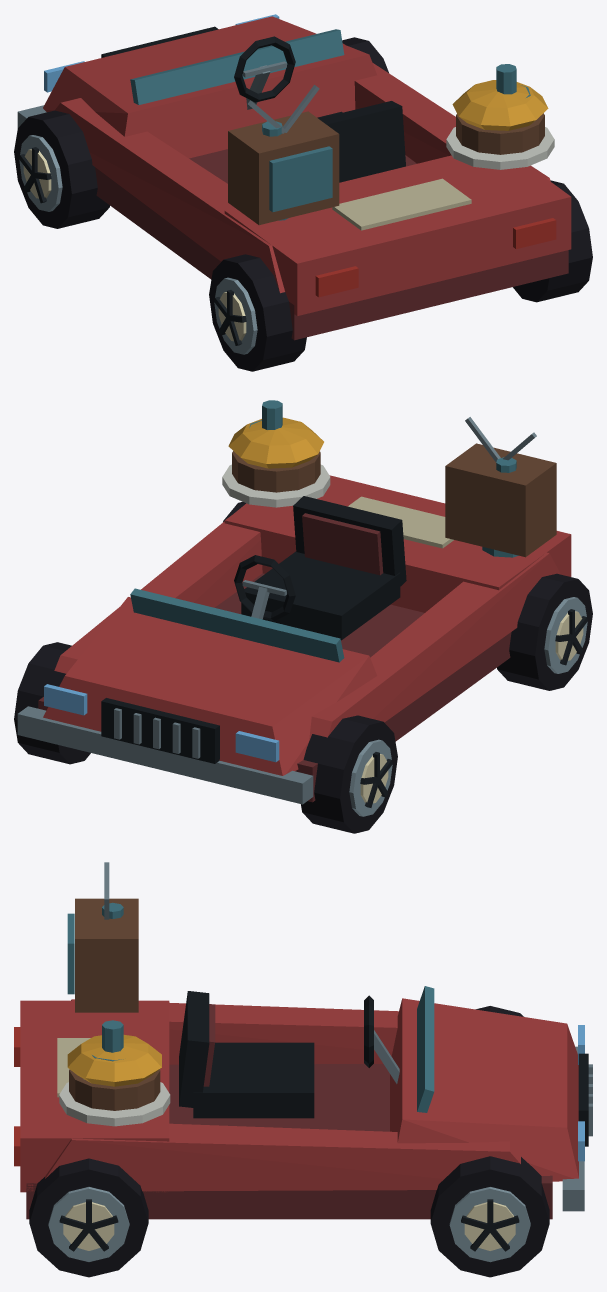
File: kart.glb
3 renders of one model, top to bottom at view 1: azimuth 30°, elevation 25°; view 2: azimuth 150°, elevation 25°; view 3: azimuth 270°, elevation 25°, orthographic. The views are drawn at different scales.
Visible parts, largest first — view 1: identity-sedan-sedan-road-car-body, identity-sedan-motif-television, wheel-front-left, wheel-rear-left, identity-sedan-motif-food, identity-sedan-driver-cockpit, wheel-rear-right, identity-sedan-motif-bottles, wheel-front-right; view 2: identity-sedan-sedan-road-car-body, identity-sedan-driver-cockpit, identity-sedan-motif-television, wheel-front-left, wheel-rear-left, identity-sedan-motif-food, wheel-front-right, identity-sedan-motif-bottles; view 3: identity-sedan-sedan-road-car-body, identity-sedan-driver-cockpit, wheel-front-right, wheel-rear-right, identity-sedan-motif-television, identity-sedan-motif-food, identity-sedan-motif-bottles.
Boxes of the visible parts, left/top/right/bottom form: identity-sedan-sedan-road-car-body: left=17, top=14, right=571, bottom=340; identity-sedan-motif-television: left=228, top=85, right=339, bottom=225; wheel-front-left: left=14, top=110, right=109, bottom=228; wheel-rear-left: left=209, top=254, right=306, bottom=371; identity-sedan-motif-food: left=446, top=80, right=554, bottom=169; identity-sedan-driver-cockpit: left=234, top=36, right=405, bottom=182; wheel-rear-right: left=513, top=180, right=592, bottom=302; identity-sedan-motif-bottles: left=262, top=64, right=530, bottom=220; wheel-front-right: left=342, top=37, right=388, bottom=72; identity-sedan-sedan-road-car-body: left=17, top=475, right=571, bottom=804; identity-sedan-driver-cockpit: left=234, top=496, right=406, bottom=640; identity-sedan-motif-television: left=445, top=417, right=556, bottom=557; wheel-front-left: left=301, top=715, right=397, bottom=833; wheel-rear-left: left=497, top=573, right=592, bottom=690; identity-sedan-motif-food: left=222, top=417, right=330, bottom=507; wheel-front-right: left=14, top=642, right=90, bottom=764; identity-sedan-motif-bottles: left=249, top=400, right=518, bottom=557; identity-sedan-sedan-road-car-body: left=14, top=986, right=592, bottom=1219; identity-sedan-driver-cockpit: left=179, top=991, right=399, bottom=1118; wheel-front-right: left=430, top=1156, right=549, bottom=1277; wheel-rear-right: left=29, top=1158, right=148, bottom=1277; identity-sedan-motif-television: left=67, top=862, right=138, bottom=1012; identity-sedan-motif-food: left=59, top=1035, right=170, bottom=1126; identity-sedan-motif-bottles: left=83, top=902, right=123, bottom=1079.
Bounding box in the file's own units: 2.07 × 1.46 × 2.92.
